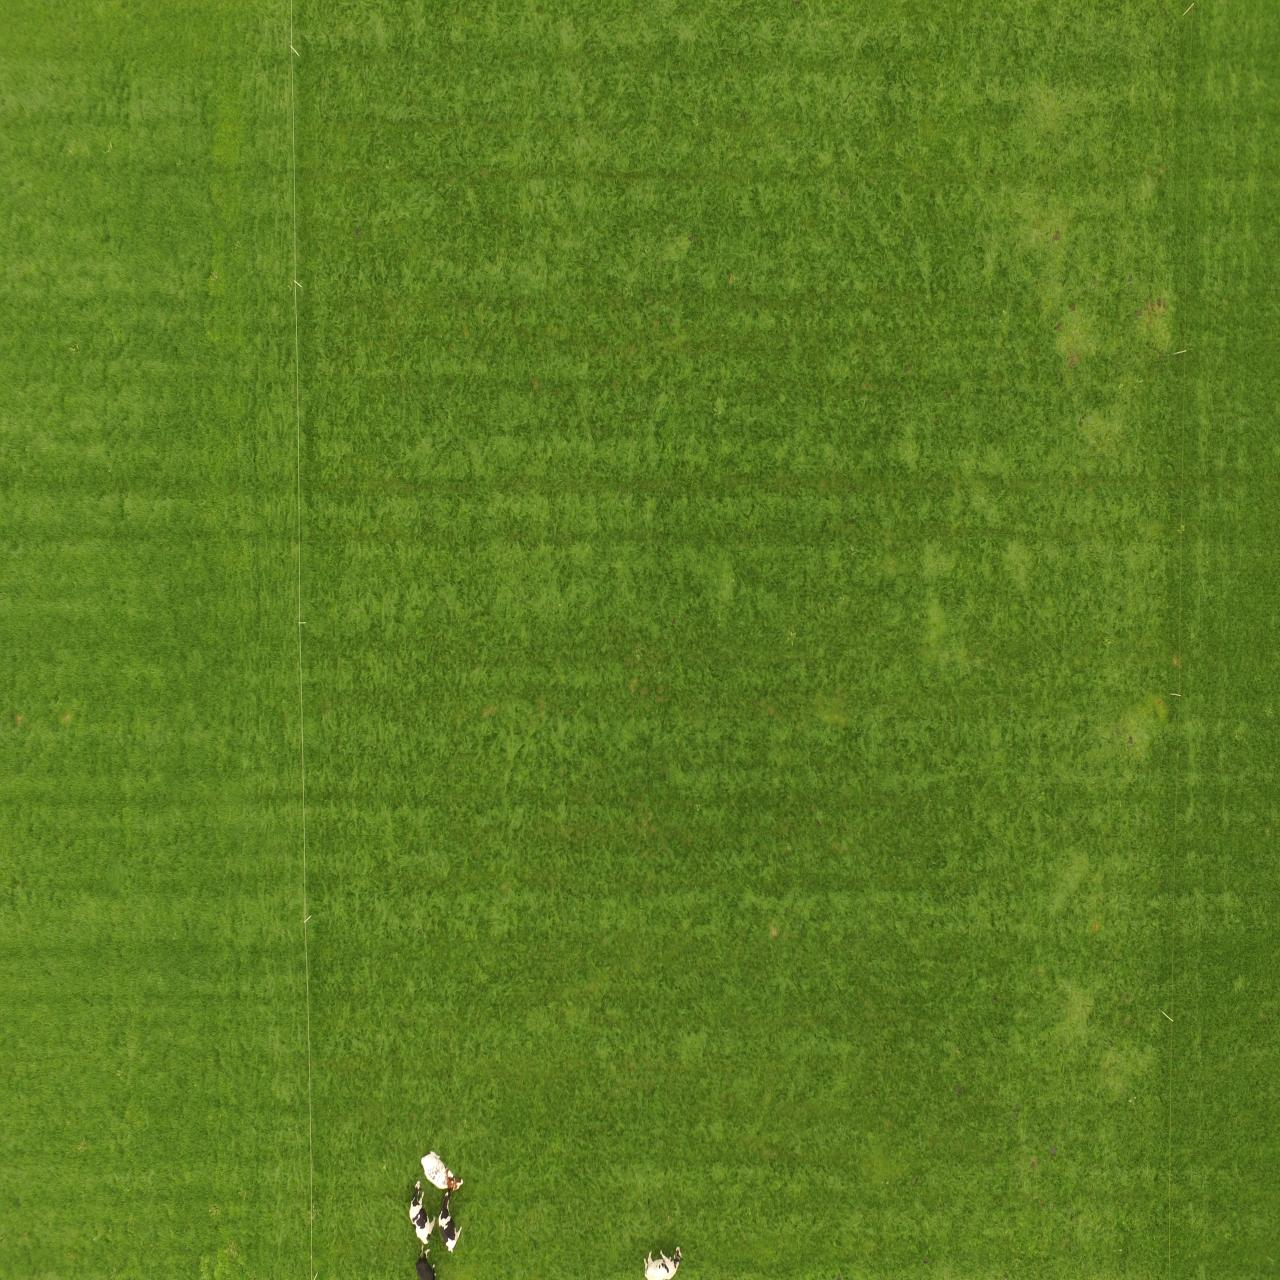cow: (404, 1179, 437, 1241), (424, 1148, 465, 1190), (437, 1194, 465, 1254)
